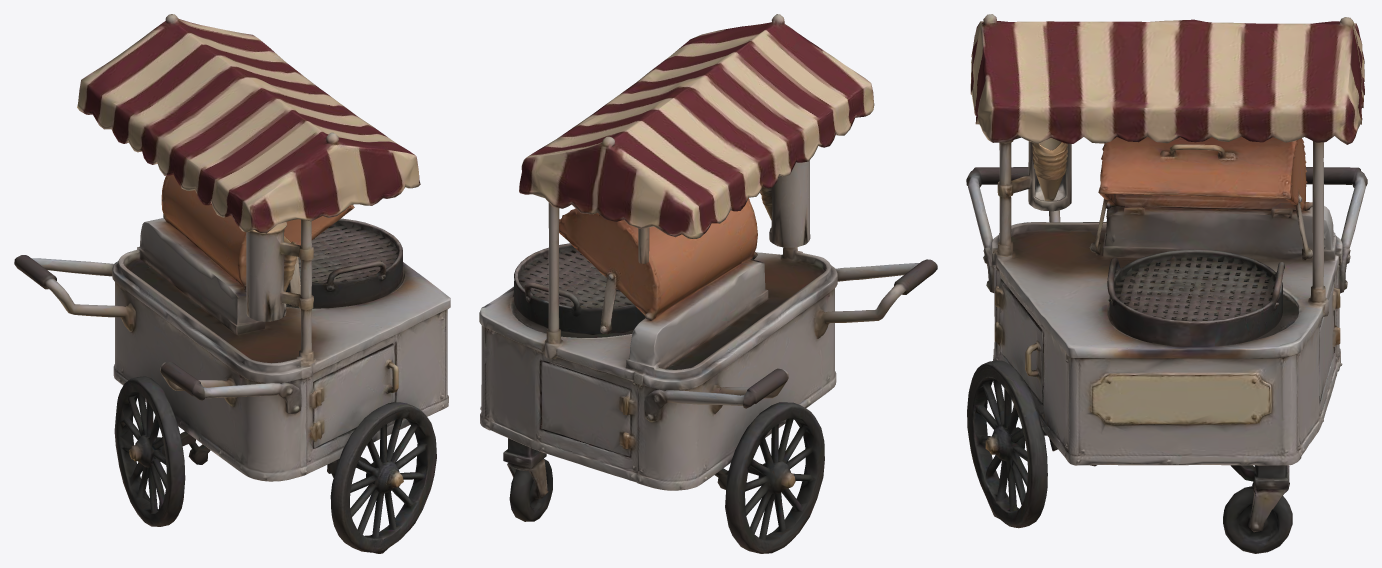
Rendered from lt_chestnut.glb.
The picture shows the model from 3 angles, left to right: view 1: azimuth 30°, elevation 25°; view 2: azimuth 150°, elevation 25°; view 3: azimuth 270°, elevation 25°; orthographic projection. The views are drawn at different scales.
Parts seen in each view (by area): view 1: tripo_node_8422e356-3353-42ae-9ead-f4a3cbadc519; view 2: tripo_node_8422e356-3353-42ae-9ead-f4a3cbadc519; view 3: tripo_node_8422e356-3353-42ae-9ead-f4a3cbadc519.
Part boxes in pixels (x1,y1,x2,y2): tripo_node_8422e356-3353-42ae-9ead-f4a3cbadc519: [14, 14, 450, 553]; tripo_node_8422e356-3353-42ae-9ead-f4a3cbadc519: [479, 14, 937, 553]; tripo_node_8422e356-3353-42ae-9ead-f4a3cbadc519: [966, 14, 1367, 553].
Size of the model in its own units: 0.7449 by 1 by 0.7674.
Materials: 1 (1 with a texture image).
